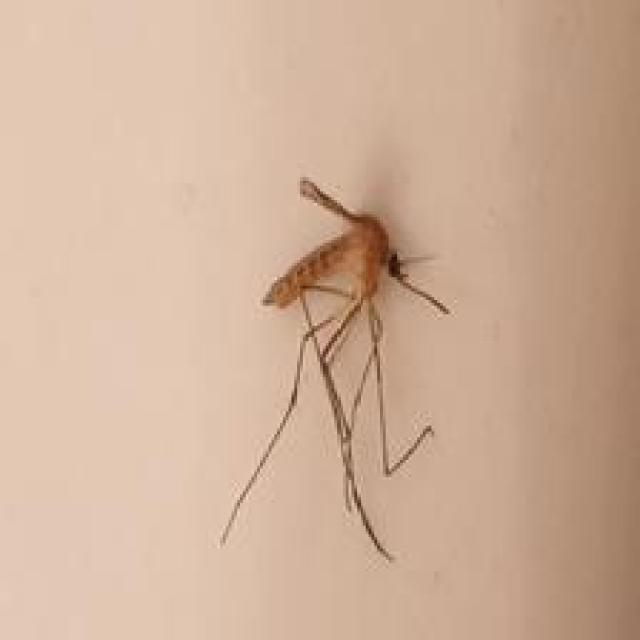Culex: (217, 176, 452, 561)
